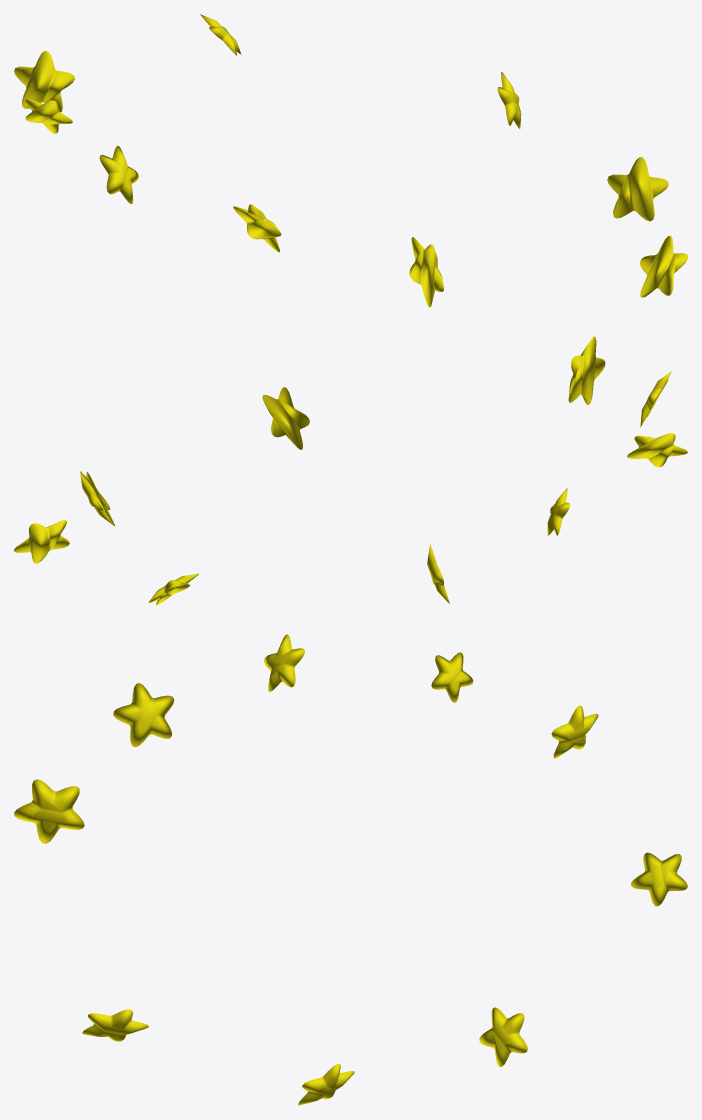
The model's file is Stars.glb.
3 views of the same model, one above another, from view 1: azimuth 30°, elevation 25°; view 2: azimuth 150°, elevation 25°; view 3: azimuth 270°, elevation 25° (orthographic).
Parts seen in each view (by area): view 1: Stars; view 2: Stars; view 3: Stars.
Part boxes in pixels (x1,y1,x2,y2): Stars: [14, 14, 687, 307]; Stars: [14, 336, 687, 605]; Stars: [14, 634, 687, 1105].
Bounding box in the file's own units: 2.81 × 0.9643 × 2.86.
